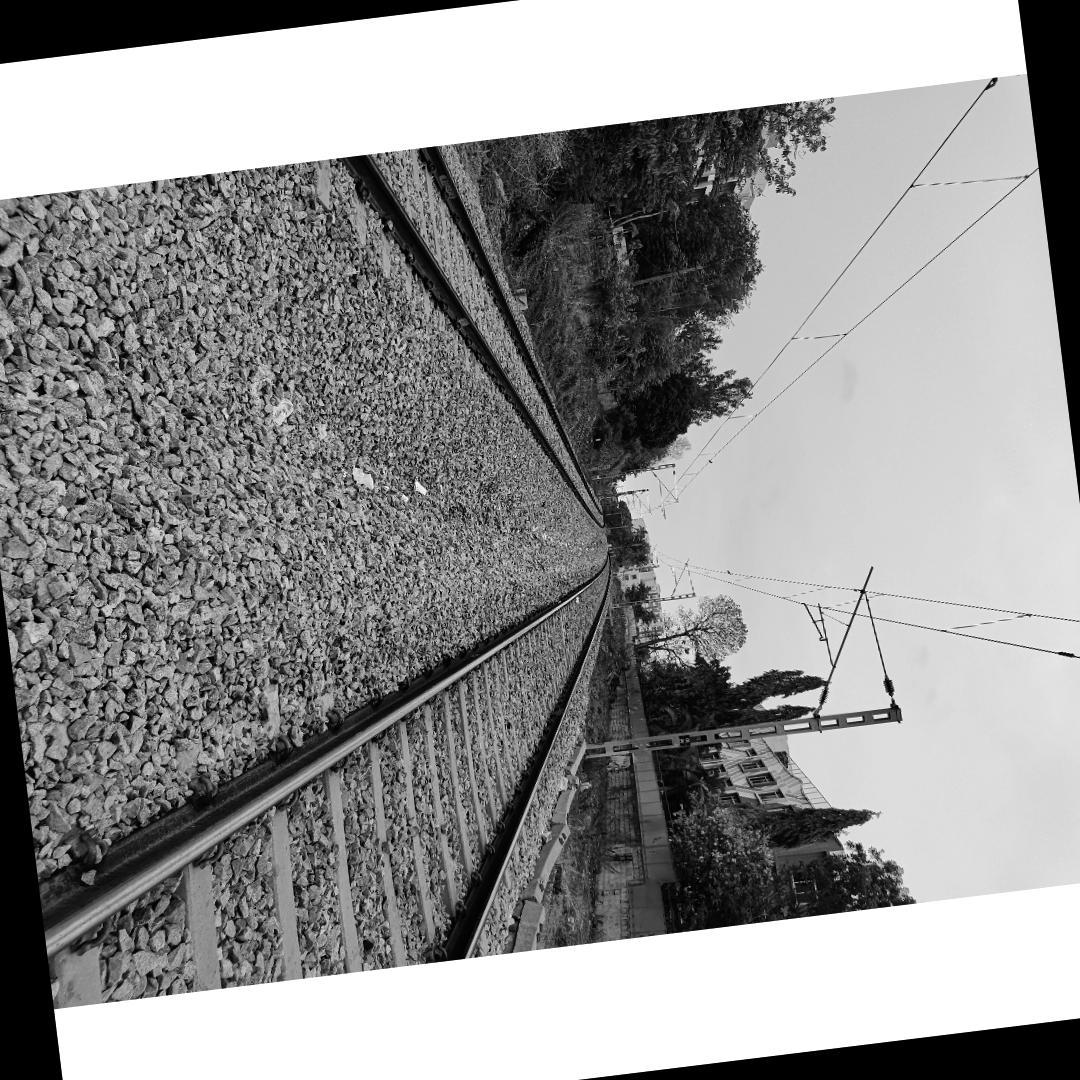track: (35, 515, 621, 1008), (259, 141, 610, 545)
